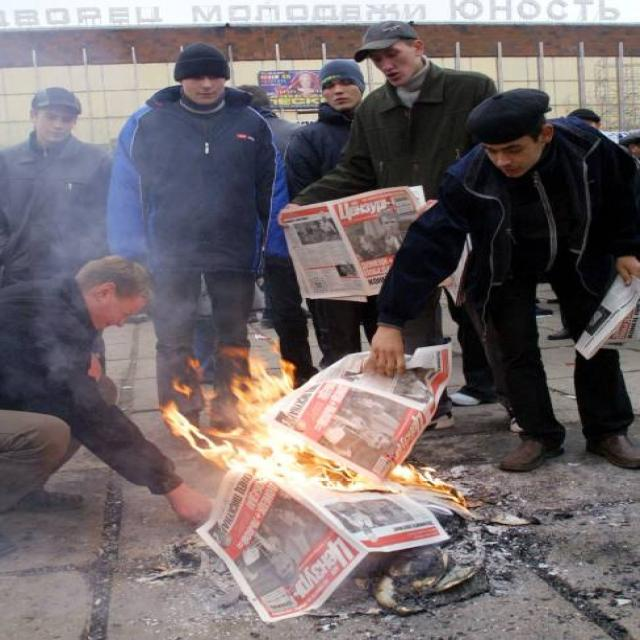fire: (173, 338, 294, 475), (298, 442, 466, 509), (158, 399, 235, 471)
